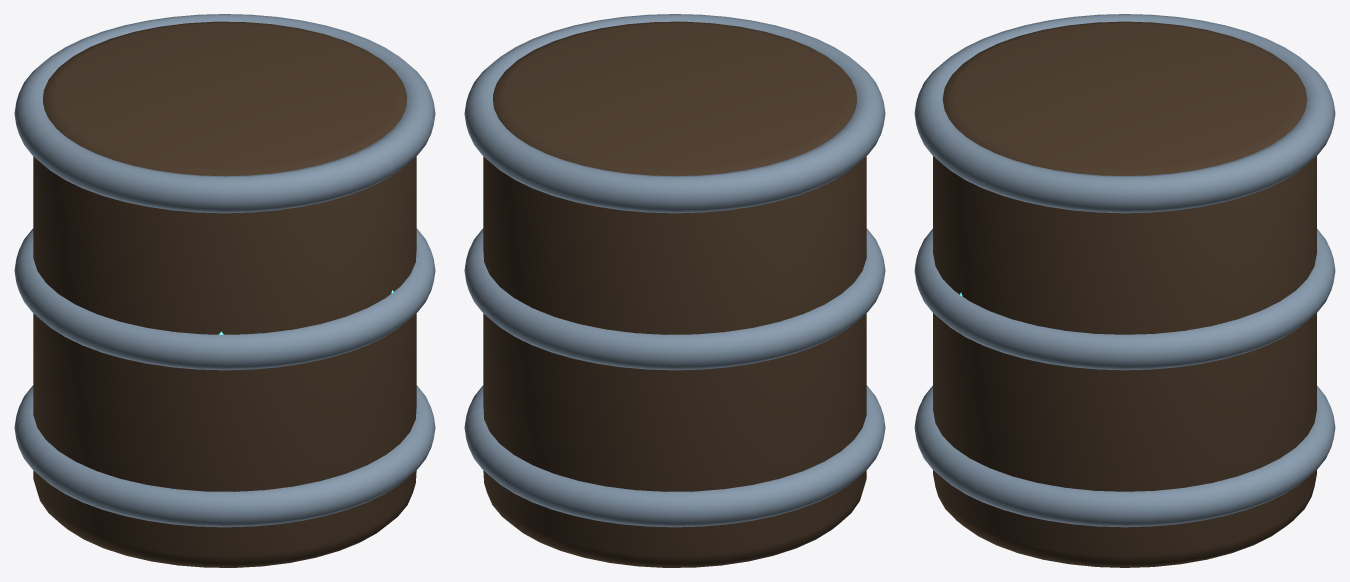
The model's file is mimic_v8.glb.
3 renders of one model, left to right at view 1: azimuth 30°, elevation 25°; view 2: azimuth 150°, elevation 25°; view 3: azimuth 270°, elevation 25°, orthographic.
Visible parts, largest first — view 1: BARREL_BODY_SECONDARY, BARREL_HOOP_PRIMARY.002, BARREL_HOOP_PRIMARY, BARREL_HOOP_PRIMARY.001; view 2: BARREL_BODY_SECONDARY, BARREL_HOOP_PRIMARY.002, BARREL_HOOP_PRIMARY, BARREL_HOOP_PRIMARY.001; view 3: BARREL_BODY_SECONDARY, BARREL_HOOP_PRIMARY.002, BARREL_HOOP_PRIMARY, BARREL_HOOP_PRIMARY.001.
Part boxes in pixels (<box>): BARREL_BODY_SECONDARY: <box>33,21,416,567</box>; BARREL_HOOP_PRIMARY.002: <box>14,14,435,213</box>; BARREL_HOOP_PRIMARY: <box>14,385,435,527</box>; BARREL_HOOP_PRIMARY.001: <box>14,228,435,370</box>; BARREL_BODY_SECONDARY: <box>483,21,866,567</box>; BARREL_HOOP_PRIMARY.002: <box>464,14,885,213</box>; BARREL_HOOP_PRIMARY: <box>464,385,885,527</box>; BARREL_HOOP_PRIMARY.001: <box>464,228,885,370</box>; BARREL_BODY_SECONDARY: <box>933,21,1316,567</box>; BARREL_HOOP_PRIMARY.002: <box>914,14,1335,213</box>; BARREL_HOOP_PRIMARY: <box>914,386,1335,527</box>; BARREL_HOOP_PRIMARY.001: <box>914,229,1335,370</box>.
Bounding box in the file's own units: 1.58 × 1.65 × 1.58.
